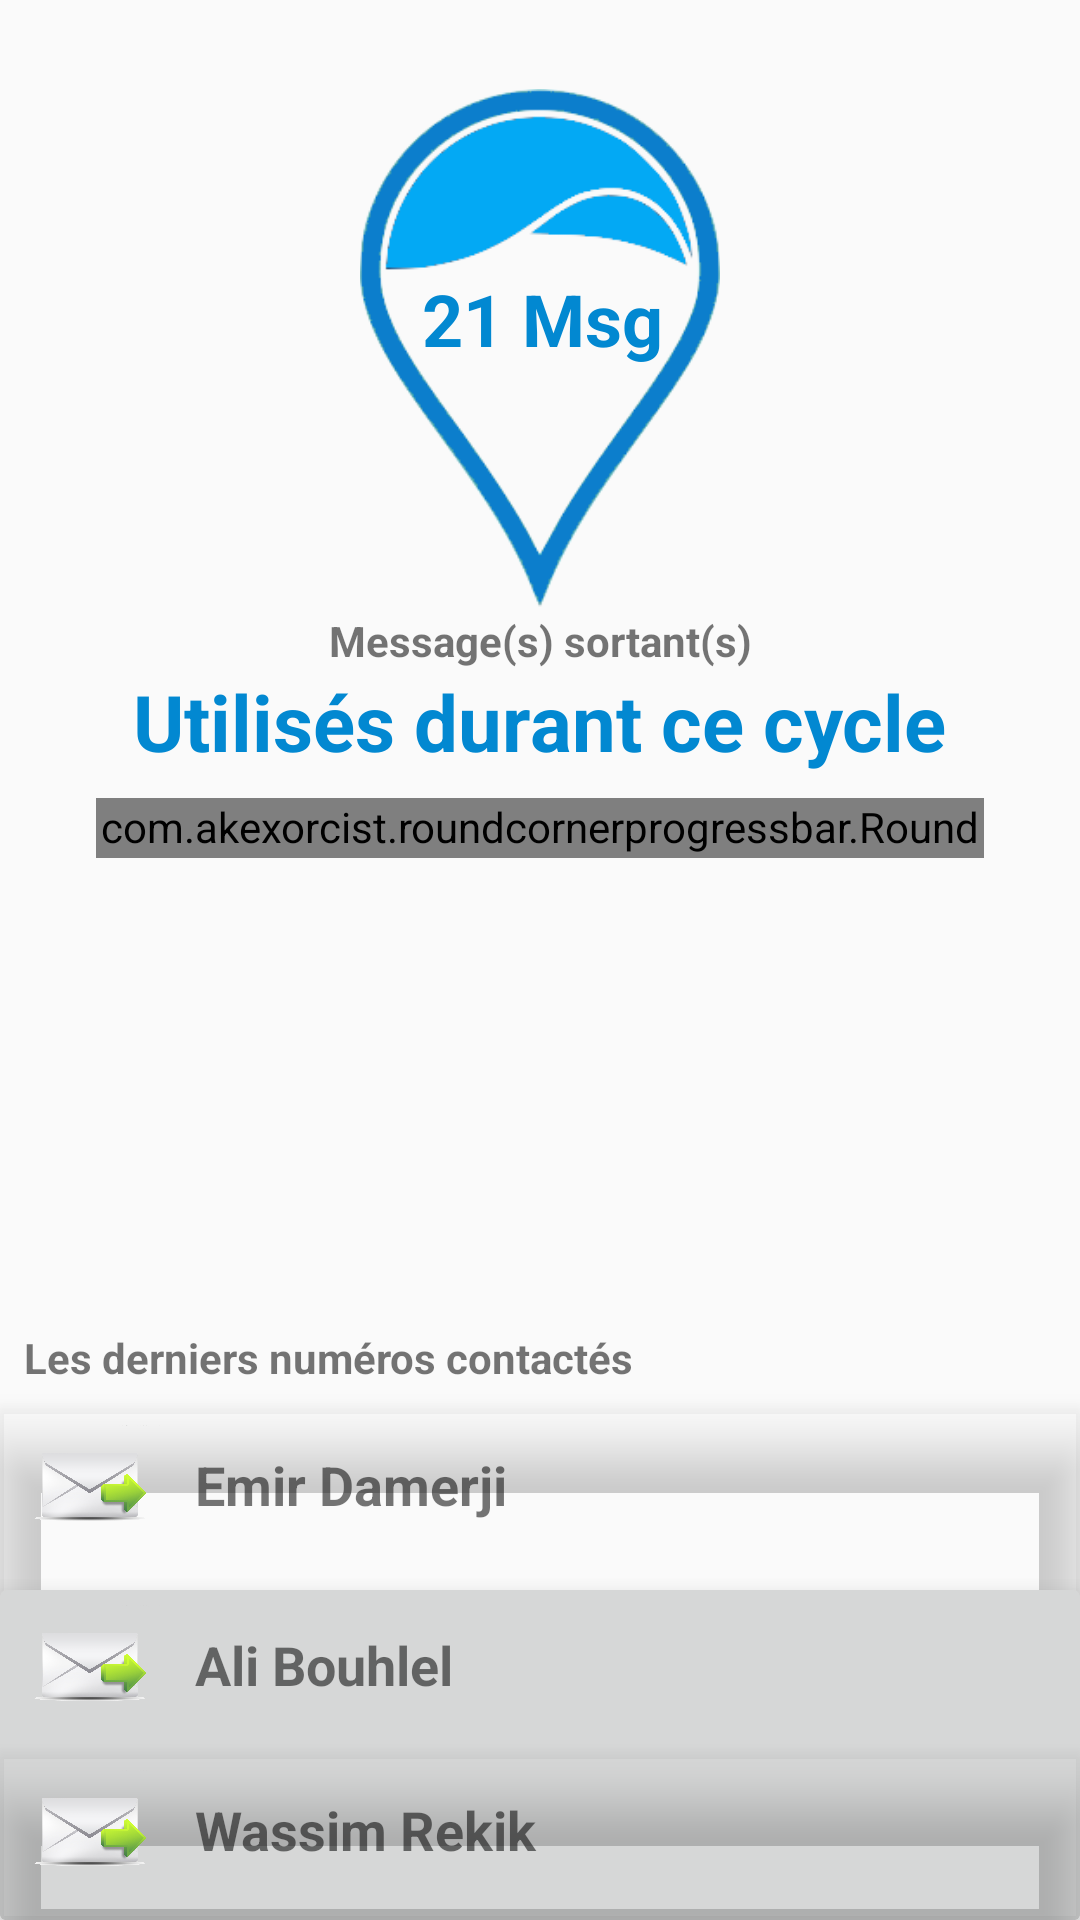

Icon bounding boxes for this 1080 x 1920 phone screenshot, format (x1, y1, x2, y2):
outgoing msg: (15, 1425, 165, 1545), (35, 1641, 146, 1701), (15, 1806, 165, 1890)
